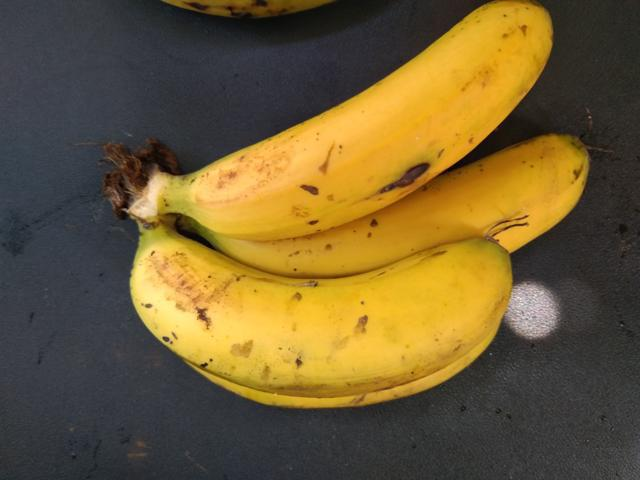ripe: (152, 19, 551, 226), (103, 245, 546, 416), (243, 133, 598, 297)
